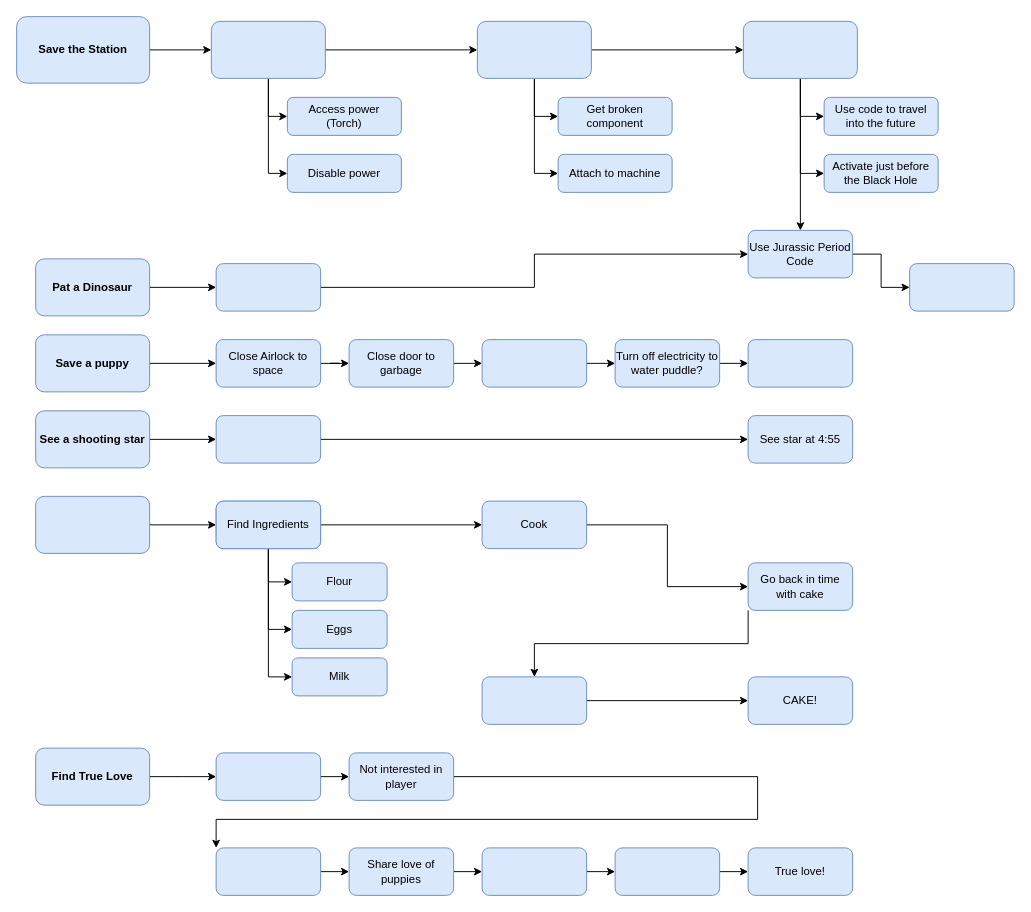
This 1031x912 diagram has some shape labels left out. Here are the shapes that lost their labels. From the top down, the box of each, then its label:
(210, 20, 325, 78): Prevent the experiment activating
(476, 20, 591, 78): Fix the experiment
(742, 20, 857, 78): Escape the Black Hole
(215, 263, 321, 311): Find code for Jurassic Period
(909, 263, 1014, 311): Pat Dinosaur
(481, 339, 587, 387): Close Airlock
(747, 339, 853, 387): Close Airlock to reactor
(215, 415, 321, 463): Meet NPC
(35, 495, 150, 553): Bake a Cake
(481, 676, 587, 724): Cook for rest of time
(215, 752, 321, 800): Meet the scientist
(215, 847, 321, 895): Share love of theatre
(481, 847, 587, 895): Share love of reading
(614, 847, 720, 895): Share love of cake, by giving cake
